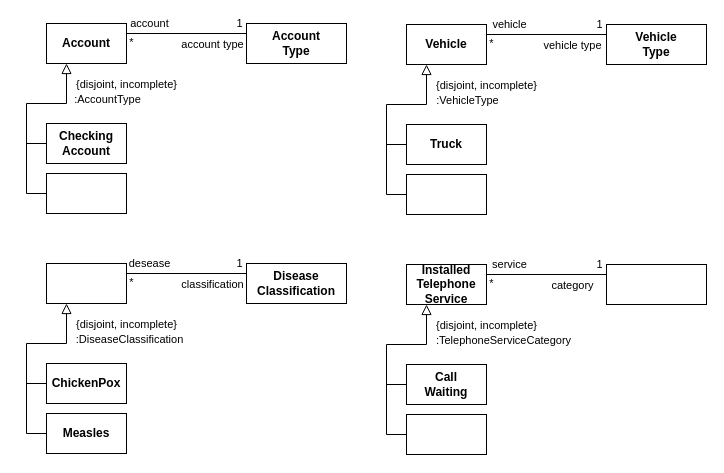
The diagram is 724 pixels wide and 473 high, and some of its shapes have lost their labels. Here are the shapes that lost their labels. From the top down, the centre of each, then its label:
(86,193): Savings Account
(446,194): Car
(86,283): Disease Occurence
(656,284): Telephone Service Category
(446,434): Call Transferring
